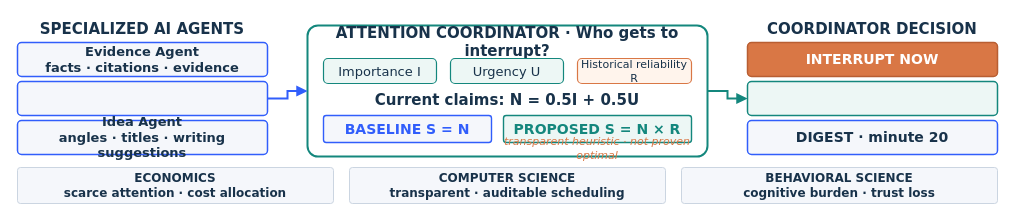
This 1016x221 diagram has some shape labels left out. Each missing label, with the centre of its shape:
Planning Agent deadlines · submission · sequence: (142,98)
QUEUE · next 5-minute checkpoint: (872,98)
